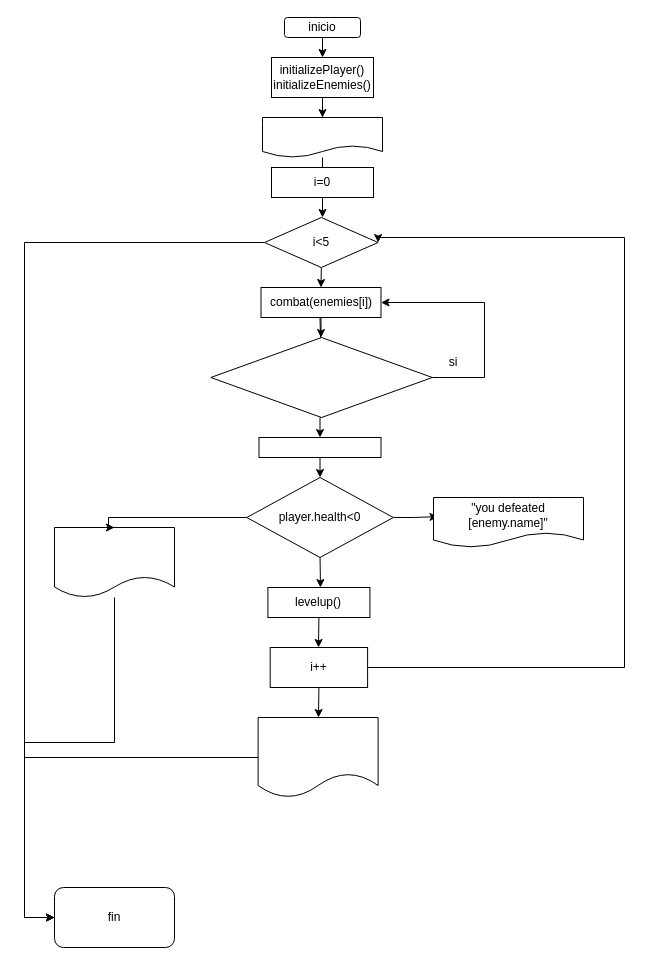
The diagram is 650 pixels wide and 965 high, and some of its shapes have lost their labels. The shapes that lost their labels are listed below. From the top down, each one's centre as x and y in pixels, then its label:
[322,137]: "Dark knight"
[321,377]: payer.health && enemy.health>0
[319,447]: palyerturn(enemy)
[114,562]: "you have been defeated"
[317,757]: congratulation you saved the kingdom
